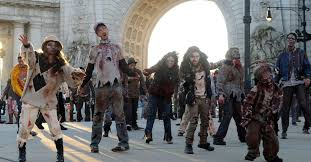zombie: (43, 39, 61, 58), (258, 69, 273, 89), (94, 24, 111, 41), (188, 51, 202, 65), (285, 34, 298, 47), (165, 55, 176, 69), (229, 49, 241, 61)
